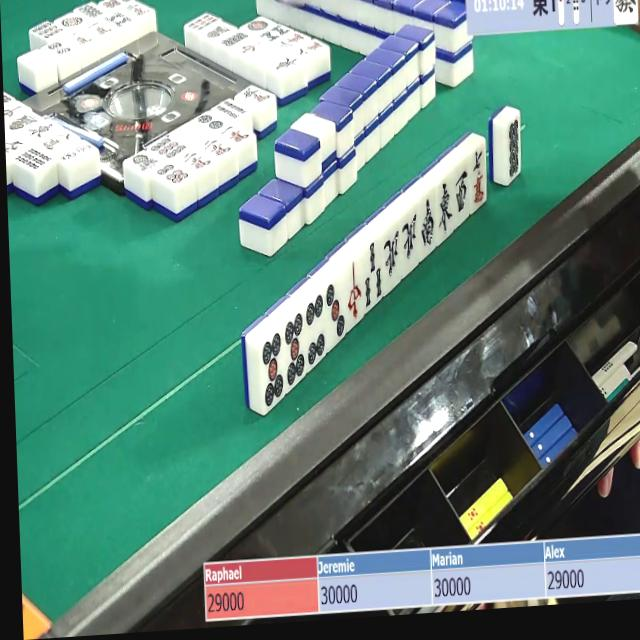3B: (364, 238, 384, 307)
3D: (325, 278, 346, 346)
4D: (304, 295, 328, 371)
5D: (261, 331, 288, 413), (284, 311, 308, 390)
7C: (470, 146, 487, 211)
8D: (507, 119, 522, 177)
EW: (436, 179, 454, 242)
GD: (615, 0, 640, 21)
NW: (383, 228, 403, 292), (400, 212, 419, 274)
RD: (347, 258, 366, 328)
SW: (420, 192, 438, 255)
WW: (450, 162, 471, 219)
